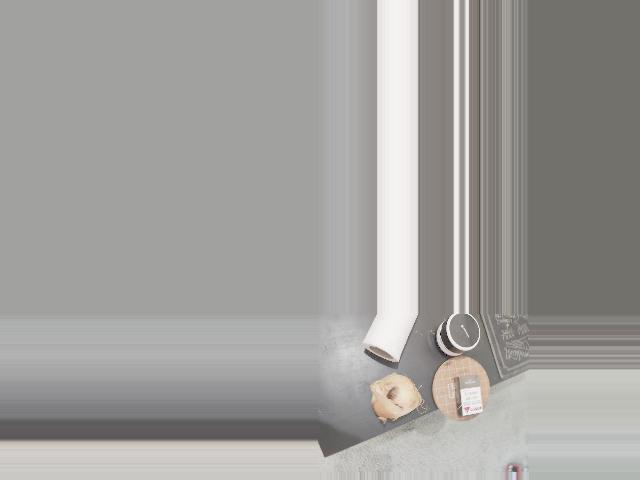onion: (368, 372, 423, 423)
